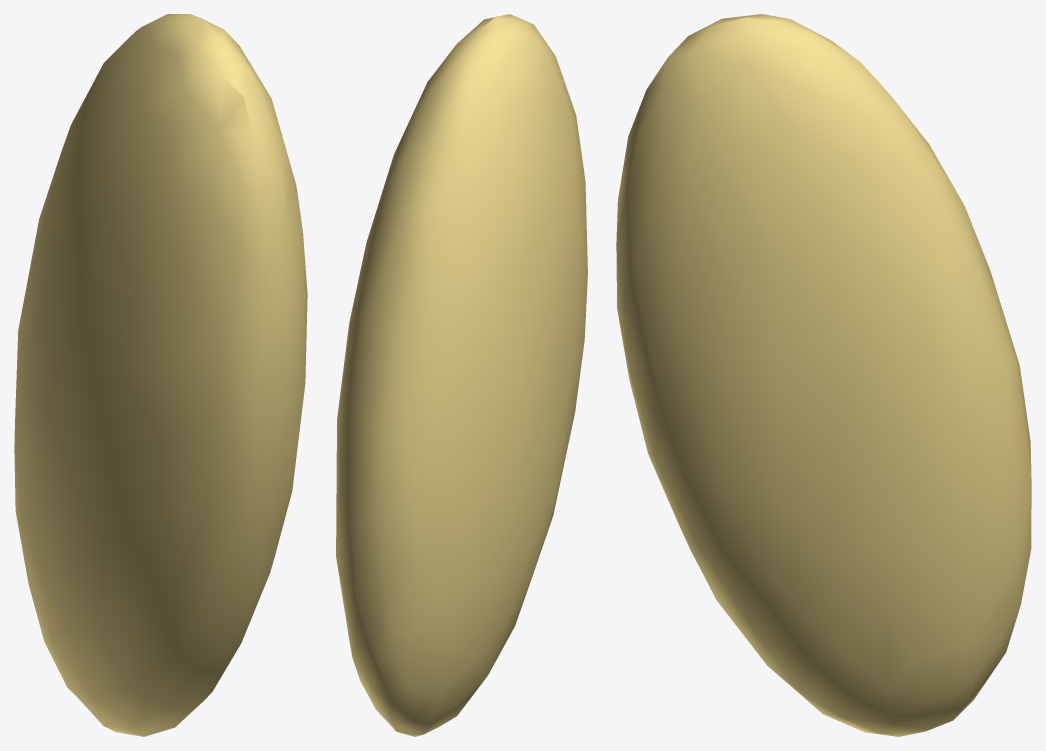
File: fma72586_mm2696.glb
3 views of the same model, side by side, from view 1: azimuth 30°, elevation 25°; view 2: azimuth 150°, elevation 25°; view 3: azimuth 270°, elevation 25° (orthographic). The views are drawn at different scales.
Parts seen in each view (by area): view 1: FMA72586_MM2696; view 2: FMA72586_MM2696; view 3: FMA72586_MM2696.
Boxes of the visible parts, x1,y1,x2,y2 form: FMA72586_MM2696: [14, 14, 307, 736]; FMA72586_MM2696: [336, 14, 587, 736]; FMA72586_MM2696: [616, 14, 1031, 736].
Size of the model in its own units: 0.00119 by 0.00454 by 0.00238.
